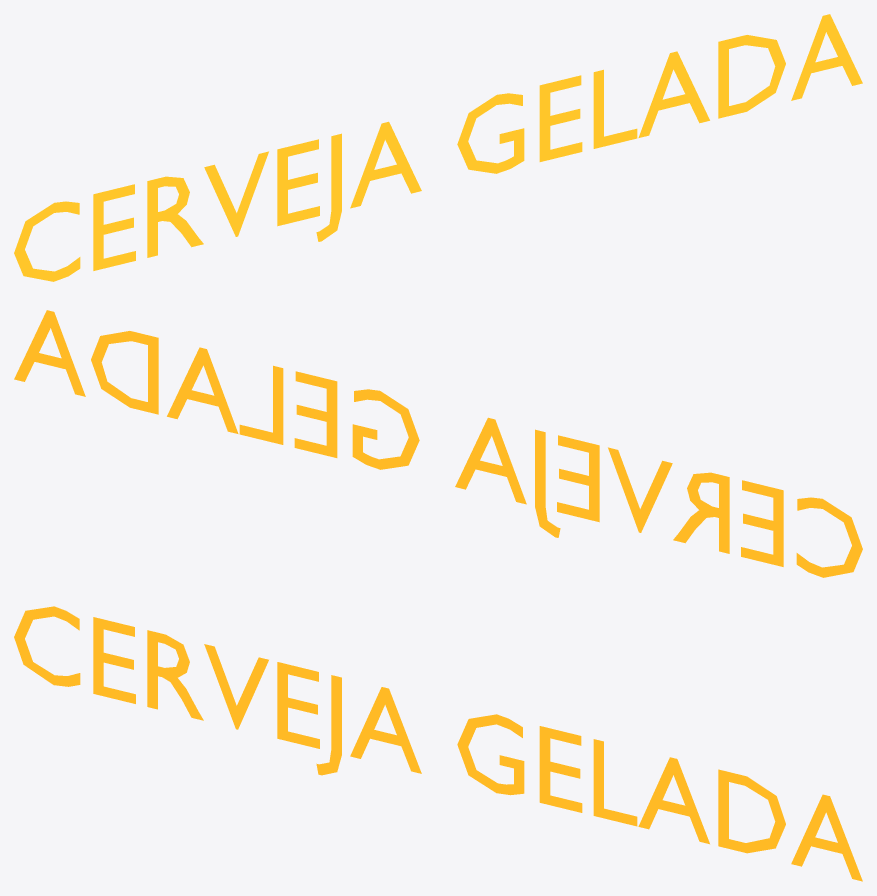
Rendered from neon_cerveja_gelada.glb.
The picture shows the model from 3 angles, top to bottom: view 1: azimuth 30°, elevation 25°; view 2: azimuth 150°, elevation 25°; view 3: azimuth 330°, elevation 25°; orthographic projection.
Visible parts, largest first — view 1: Bar_Neon_Cerveja; view 2: Bar_Neon_Cerveja; view 3: Bar_Neon_Cerveja.
Boxes of the visible parts, x1,y1,x2,y2 form: Bar_Neon_Cerveja: [14, 14, 862, 281]; Bar_Neon_Cerveja: [14, 310, 862, 577]; Bar_Neon_Cerveja: [14, 606, 862, 881].
Size of the model in its own units: 1.58 by 0.1842 by 5.96e-08.
